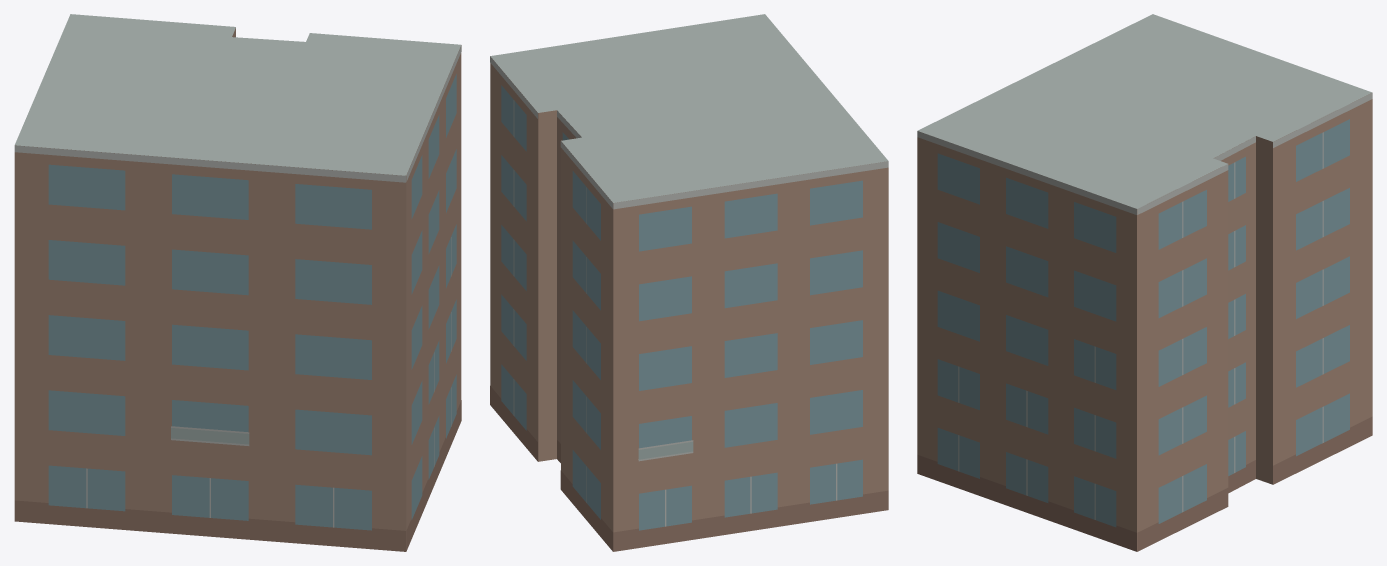
File: survey-upis-32613062.glb
3 views of the same model, side by side, from view 1: azimuth 30°, elevation 25°; view 2: azimuth 150°, elevation 25°; view 3: azimuth 270°, elevation 25° (orthographic). The views are drawn at different scales.
Parts seen in each view (by area): view 1: survey-upis-32613062.tmp; view 2: survey-upis-32613062.tmp; view 3: survey-upis-32613062.tmp.
Part boxes in pixels (x1,y1,x2,y2): survey-upis-32613062.tmp: (14, 14, 461, 551); survey-upis-32613062.tmp: (490, 14, 888, 551); survey-upis-32613062.tmp: (917, 14, 1372, 551).
Bounding box in the file's own units: 16.23 × 13.3 × 16.02.
